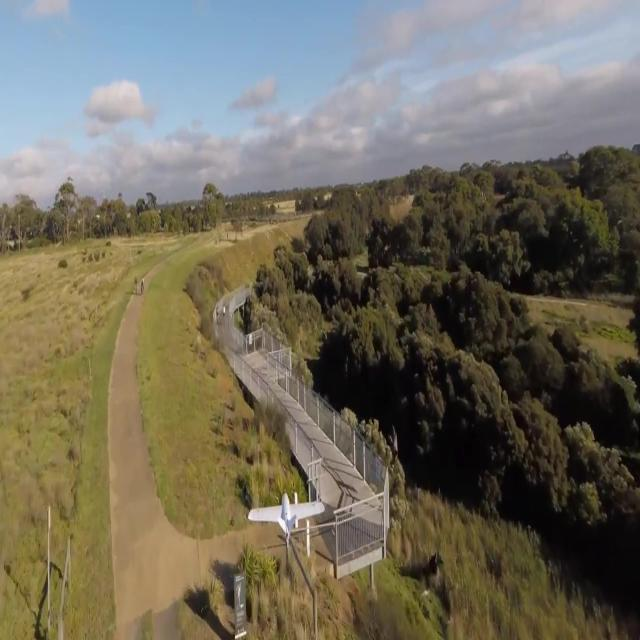iha: (279, 484, 293, 540)
